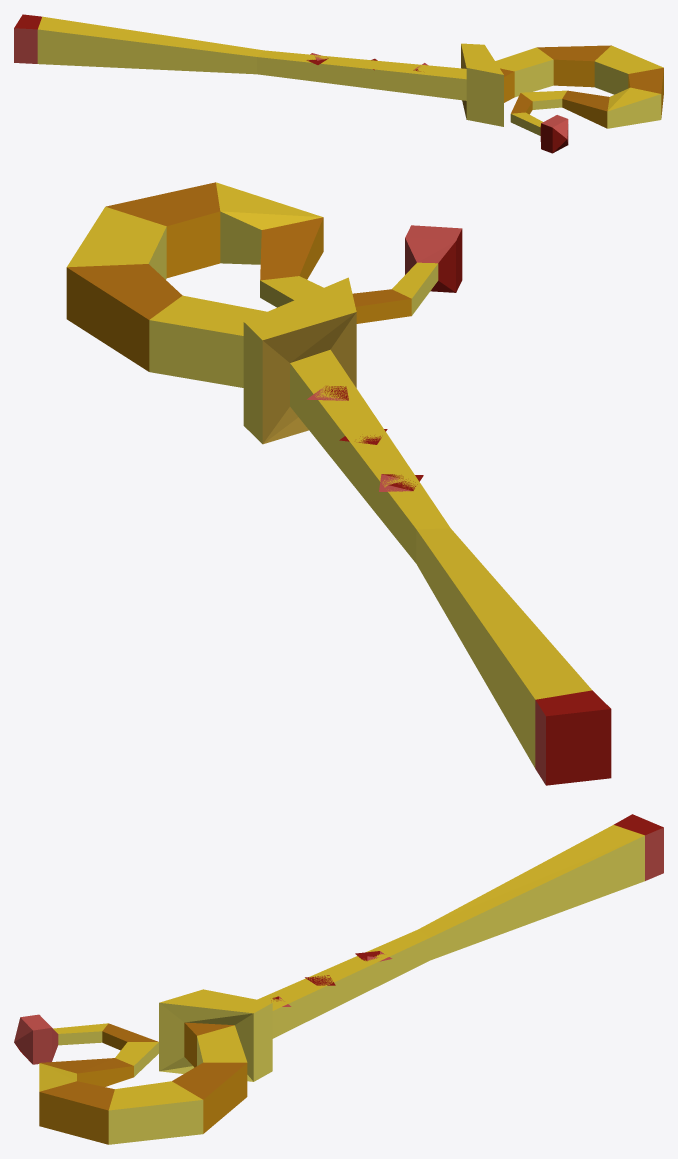
File: pharaoh-s-sceptre.gltf
3 renders of one model, top to bottom at view 1: azimuth 30°, elevation 25°; view 2: azimuth 150°, elevation 25°; view 3: azimuth 270°, elevation 25°, orthographic. The views are drawn at different scales.
Size of the model in its own units: 109 by 12 by 103.
1 material, 1 textured.
